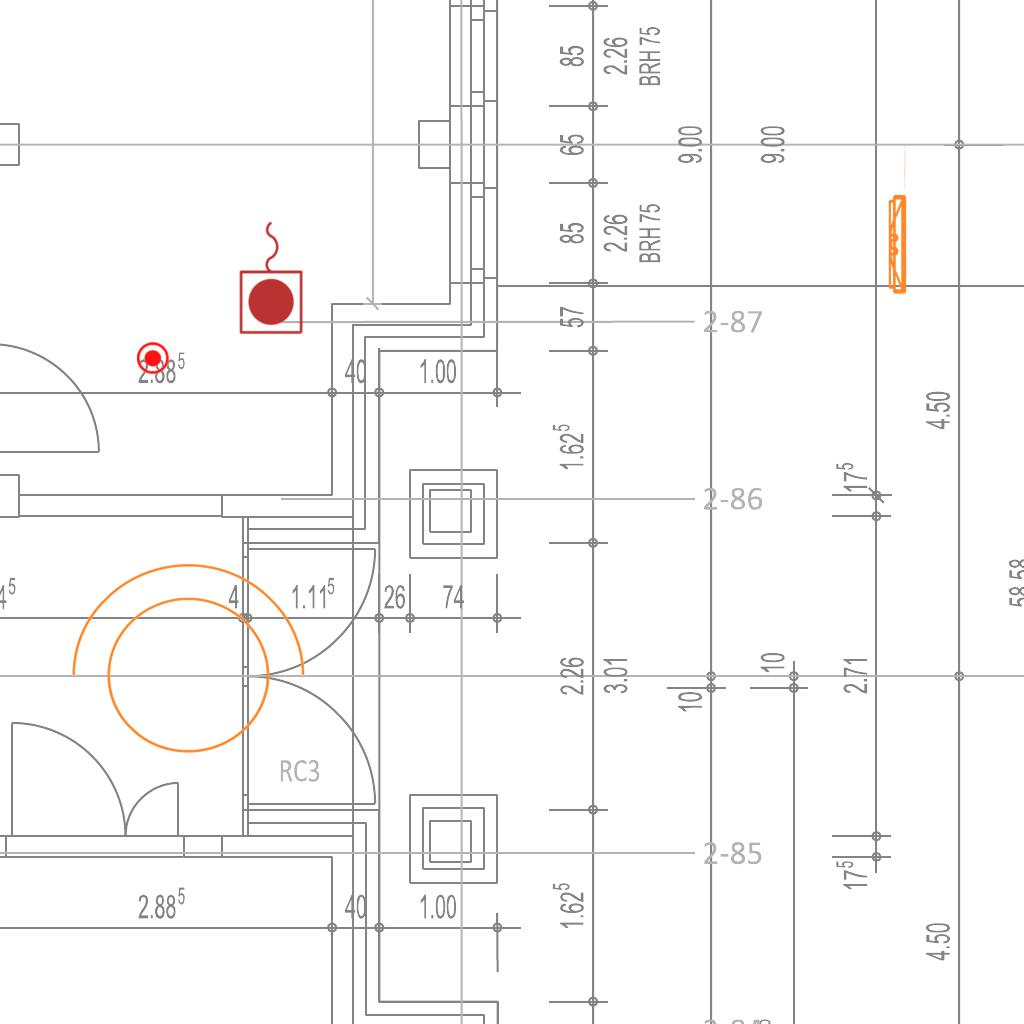Scheinwerfer_fuer_Alarmbeleuchtung: (50, 553, 314, 778)
Sicherheitsleuchte_Wandeinbau: (884, 140, 909, 299)
Taster: (137, 342, 170, 375)
Zugtaster: (236, 216, 308, 338)
